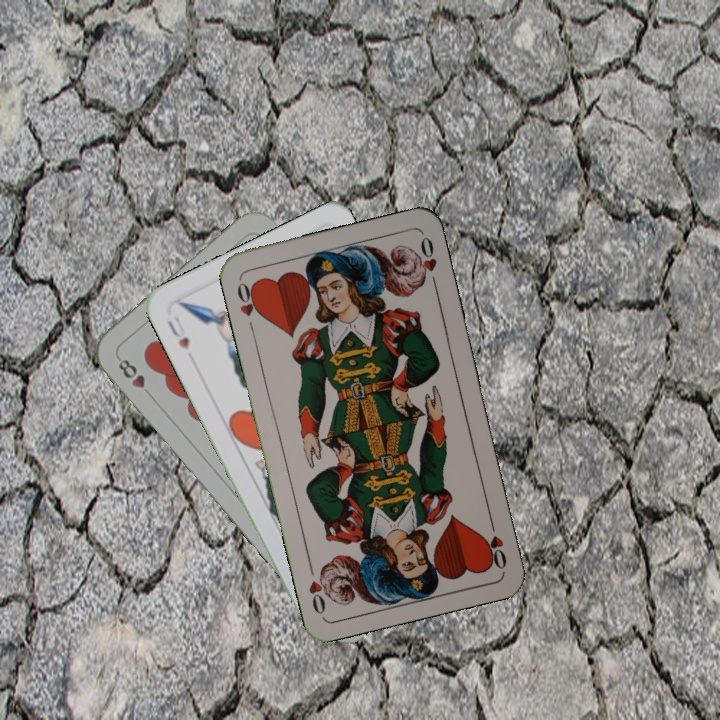H8: (114, 355, 148, 391)
HO: (233, 278, 264, 335), (482, 514, 510, 572)
HU: (163, 312, 192, 353)
